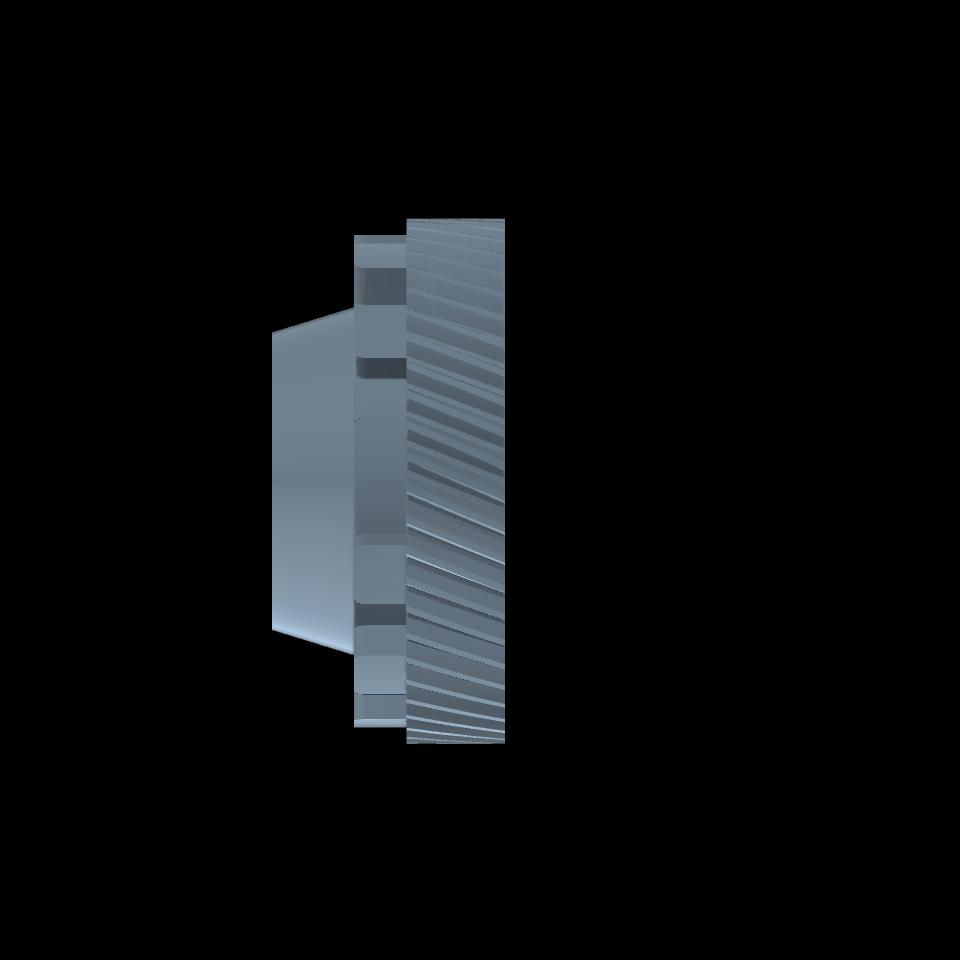Helical: (406, 219, 505, 743)
